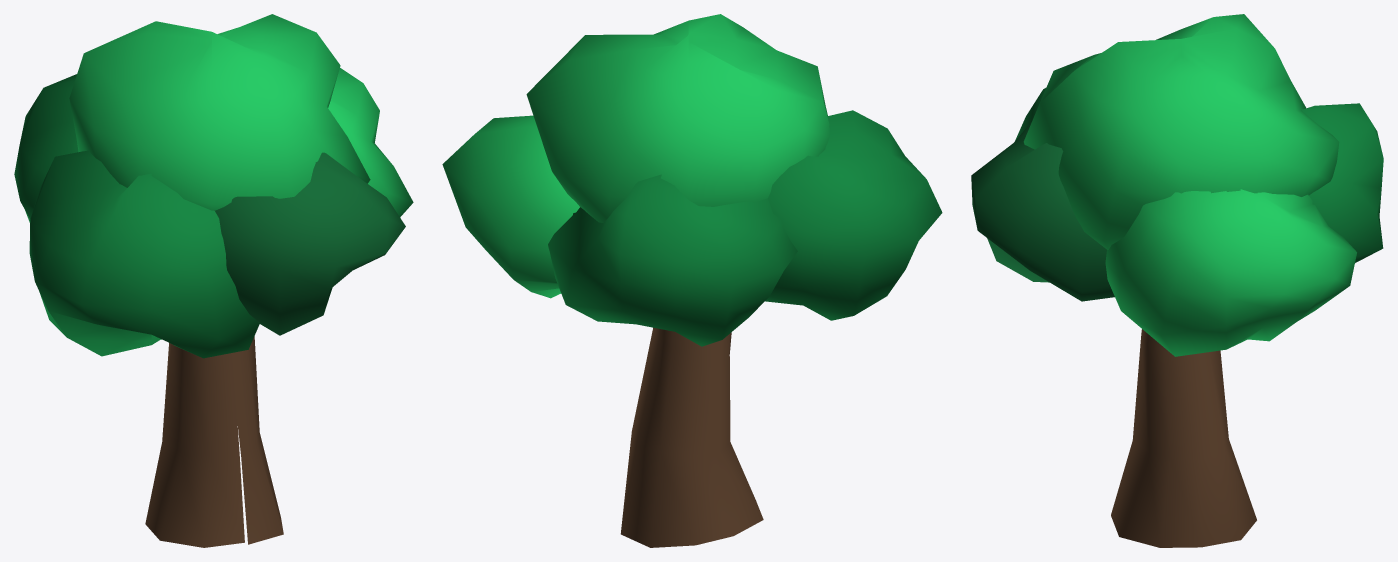
Rendered from tree_banyan.gltf.
3 views of the same model, side by side, from view 1: azimuth 30°, elevation 25°; view 2: azimuth 150°, elevation 25°; view 3: azimuth 270°, elevation 25° (orthographic). The views are drawn at different scales.
Parts seen in each view (by area): view 1: Canopy_4, Canopy_0, Trunk, Canopy_2, Canopy_3, Canopy_1; view 2: Canopy_4, Canopy_3, Canopy_0, Trunk, Canopy_1; view 3: Canopy_4, Canopy_1, Trunk, Canopy_2, Canopy_3.
Part boxes in pixels (bbox=[...]): Canopy_4: bbox=[69, 14, 370, 210]; Canopy_0: bbox=[29, 150, 259, 358]; Trunk: bbox=[145, 336, 283, 547]; Canopy_2: bbox=[215, 152, 405, 335]; Canopy_3: bbox=[14, 74, 78, 222]; Canopy_1: bbox=[328, 68, 413, 217]; Canopy_4: bbox=[526, 14, 829, 222]; Canopy_3: bbox=[548, 174, 797, 346]; Canopy_0: bbox=[765, 110, 942, 320]; Trunk: bbox=[620, 327, 763, 547]; Canopy_1: bbox=[442, 115, 579, 298]; Canopy_4: bbox=[1023, 14, 1339, 249]; Canopy_1: bbox=[1105, 189, 1356, 356]; Trunk: bbox=[1111, 329, 1256, 547]; Canopy_2: bbox=[971, 122, 1114, 301]; Canopy_3: bbox=[1301, 103, 1383, 262].
Size of the model in its own units: 2.8 by 3.32 by 2.57.
